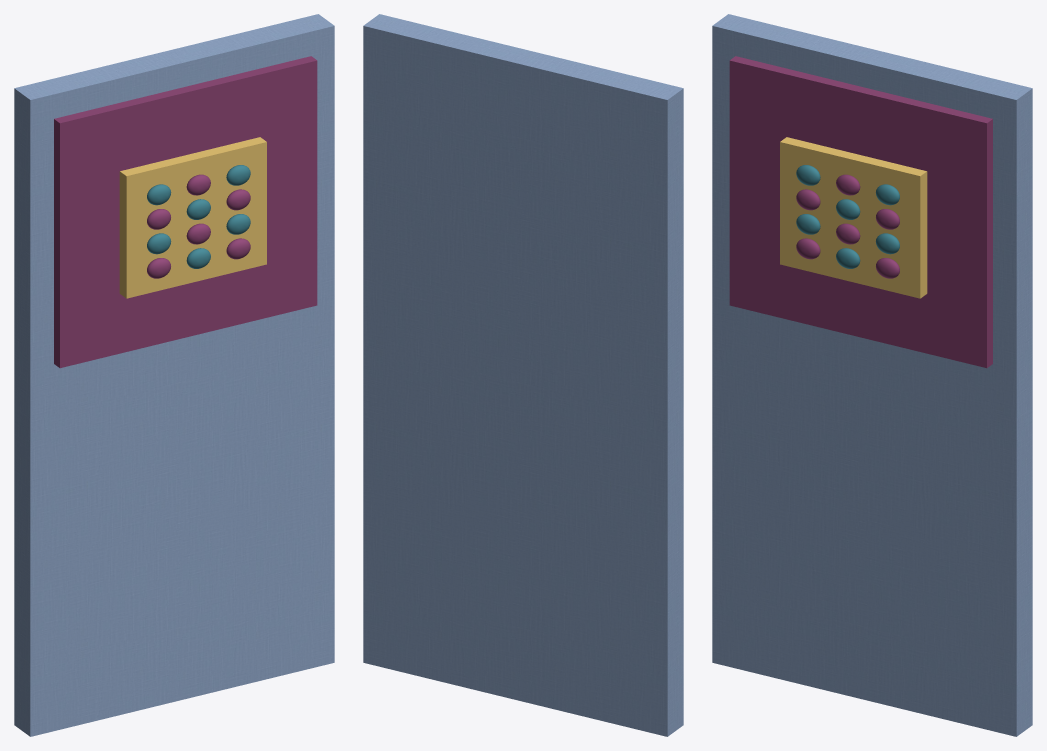
File: roupa.glb
3 renders of one model, left to right at view 1: azimuth 30°, elevation 25°; view 2: azimuth 150°, elevation 25°; view 3: azimuth 330°, elevation 25°, orthographic.
Visible parts, largest first — view 1: Túnica sem corpo humano, Éfode ilustrativo, Peitoral; view 2: Túnica sem corpo humano; view 3: Túnica sem corpo humano, Éfode ilustrativo, Peitoral.
Part boxes in pixels (box(x1,y1,x2,y2)): Túnica sem corpo humano: box(14, 14, 334, 736); Éfode ilustrativo: box(54, 56, 317, 368); Peitoral: box(119, 137, 266, 298); Túnica sem corpo humano: box(363, 14, 683, 736); Túnica sem corpo humano: box(712, 14, 1032, 736); Éfode ilustrativo: box(729, 56, 992, 368); Peitoral: box(780, 137, 927, 298).
Size of the model in its own units: 1.3 by 2.6 by 0.265.
Materials: 4 (1 with a texture image).
